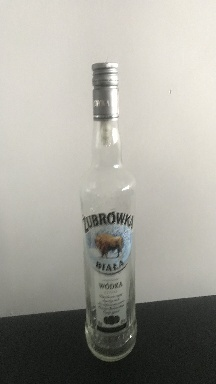butelka: (77, 58, 138, 364)
